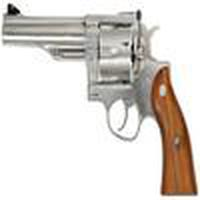gun: (1, 5, 200, 195)
